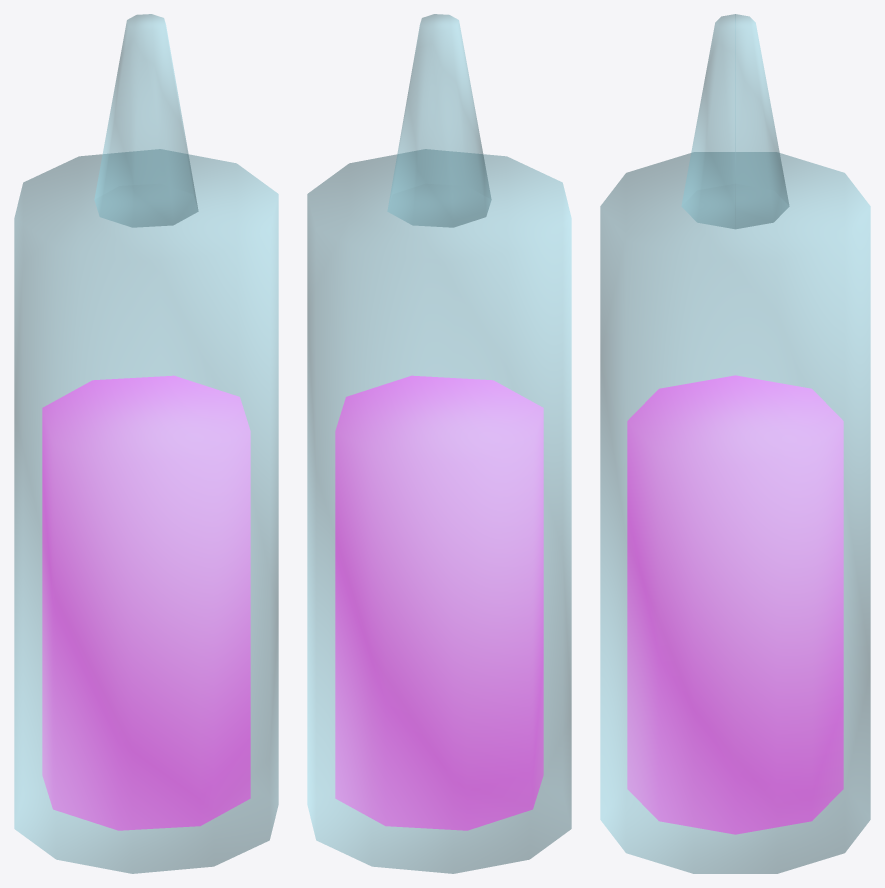
The model's file is vial_set_single_ampoule.glb.
3 views of the same model, side by side, from view 1: azimuth 30°, elevation 25°; view 2: azimuth 150°, elevation 25°; view 3: azimuth 270°, elevation 25° (orthographic).
Visible parts, largest first — view 1: GD_vial_set_single_ampoule__m0, GD_vial_set_single_ampoule__m1; view 2: GD_vial_set_single_ampoule__m0, GD_vial_set_single_ampoule__m1; view 3: GD_vial_set_single_ampoule__m0, GD_vial_set_single_ampoule__m1.
Part boxes in pixels (x1,y1,x2,y2): GD_vial_set_single_ampoule__m0: [14, 14, 278, 873]; GD_vial_set_single_ampoule__m1: [42, 375, 250, 830]; GD_vial_set_single_ampoule__m0: [307, 14, 571, 873]; GD_vial_set_single_ampoule__m1: [335, 375, 543, 830]; GD_vial_set_single_ampoule__m0: [600, 14, 870, 873]; GD_vial_set_single_ampoule__m1: [627, 375, 843, 834].
Size of the model in its own units: 0.038 by 0.13 by 0.04.
